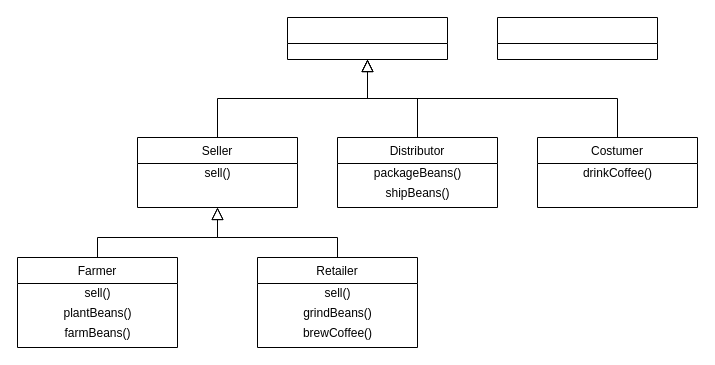
Image size: 715x365. Some labels were removed from this diagram. The centre of each missing label's shape, as x and y in pixels:
Coffeebean: the point at 577,38
Person: the point at 367,38
